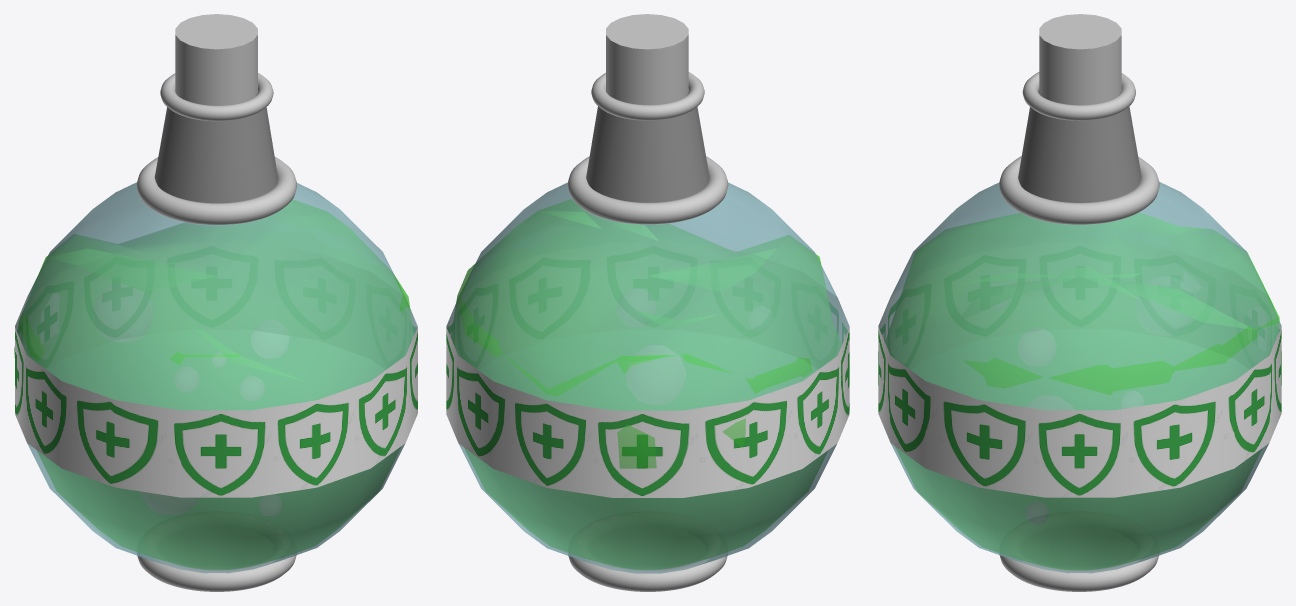
The model's file is act 1.FBX.
3 renders of one model, left to right at view 1: azimuth 30°, elevation 25°; view 2: azimuth 150°, elevation 25°; view 3: azimuth 270°, elevation 25°, orthographic.
Parts seen in each view (by area): view 1: Sphere001, Sphere002, Object004, Torus002, Object, Cylinder001, Object006; view 2: Sphere001, Sphere002, Object004, Torus002, Object, Cylinder001, Object006; view 3: Sphere001, Sphere002, Object004, Torus002, Object, Cylinder001, Object006.
Part boxes in pixels (x1,y1,x2,y2): Sphere001: (15, 182, 417, 573); Sphere002: (14, 200, 413, 569); Object004: (15, 291, 417, 497); Torus002: (136, 73, 296, 591); Object: (154, 107, 278, 203); Cylinder001: (175, 35, 257, 105); Object006: (175, 14, 257, 49); Sphere001: (446, 182, 849, 573); Sphere002: (451, 199, 841, 569); Object004: (446, 250, 849, 497); Torus002: (567, 72, 728, 591); Object: (586, 92, 709, 202); Cylinder001: (606, 35, 688, 104); Object006: (606, 14, 688, 49); Sphere001: (878, 182, 1281, 573); Sphere002: (885, 213, 1279, 569); Object004: (878, 271, 1281, 497); Torus002: (999, 72, 1159, 591); Object: (1018, 91, 1141, 202); Cylinder001: (1039, 35, 1121, 105); Object006: (1039, 14, 1121, 49).
Bounding box in the file's own units: 30.74 × 47.11 × 31.2.
